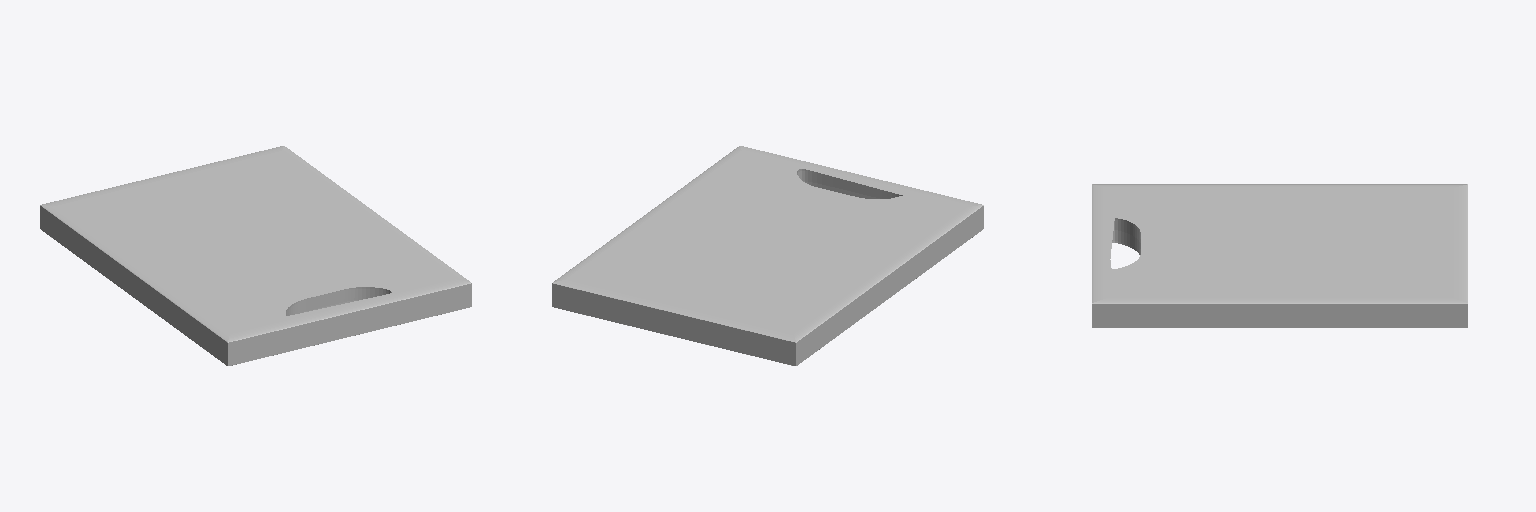
File: tabla.obj
3 views of the same model, side by side, from view 1: azimuth 30°, elevation 25°; view 2: azimuth 150°, elevation 25°; view 3: azimuth 270°, elevation 25° (orthographic).
Parts seen in each view (by area): view 1: Board_Würfel; view 2: Board_Würfel; view 3: Board_Würfel.
Boxes of the visible parts, x1=… form: Board_Würfel: x1=40, y1=146, x2=471, y2=365; Board_Würfel: x1=552, y1=146, x2=983, y2=365; Board_Würfel: x1=1092, y1=184, x2=1467, y2=327.
Bounding box in the file's own units: 0.3 × 0.03 × 0.4.